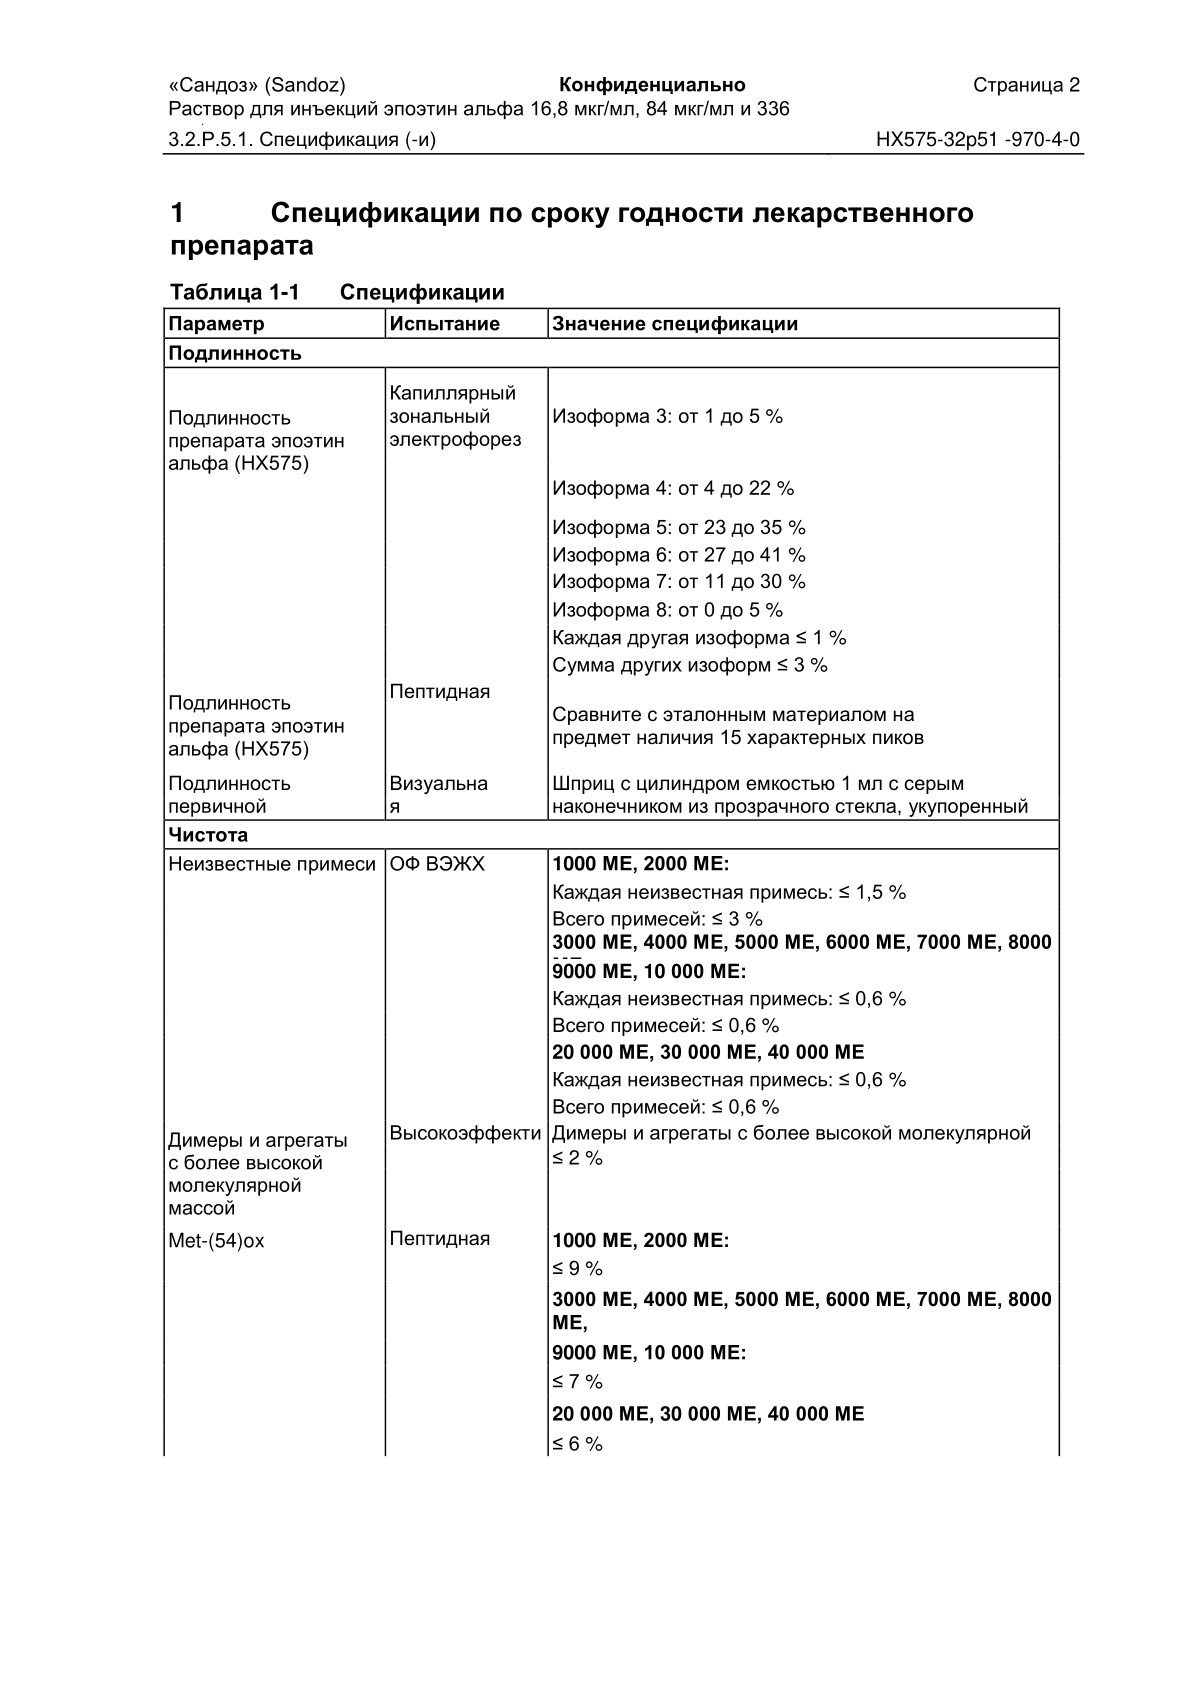partial_lined_merged_cells: (162, 305, 1060, 1456)
